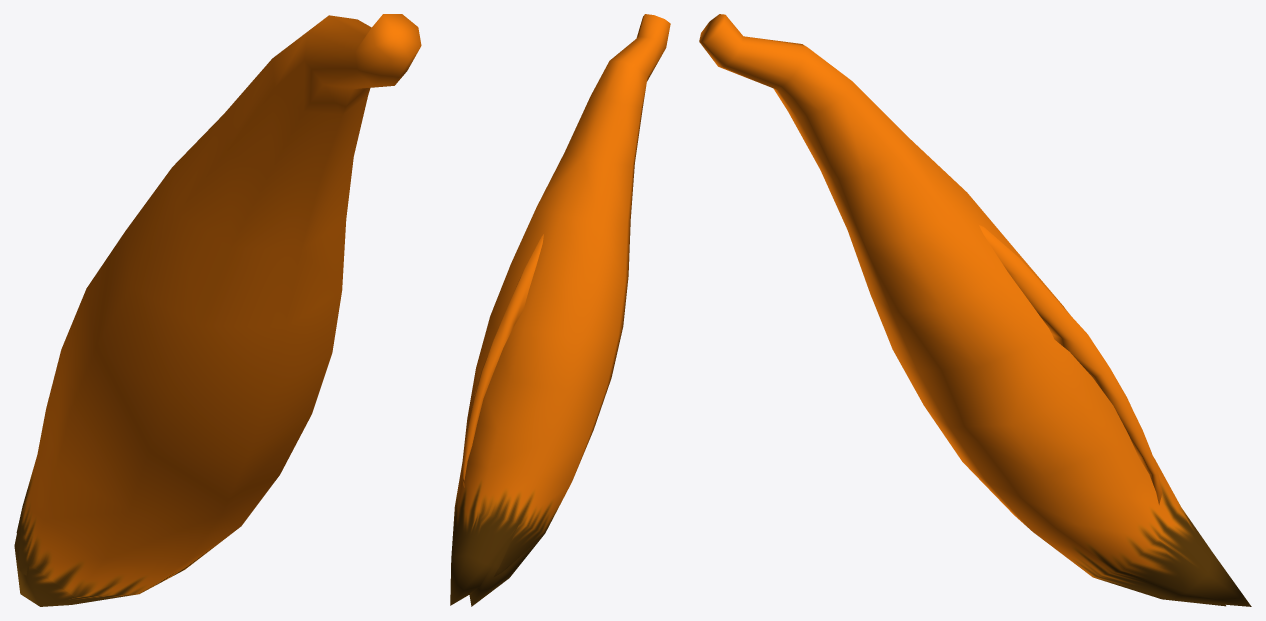
The model's file is Fox-Tail.fbx.
3 renders of one model, left to right at view 1: azimuth 30°, elevation 25°; view 2: azimuth 150°, elevation 25°; view 3: azimuth 270°, elevation 25°, orthographic. The views are drawn at different scales.
Visible parts, largest first — view 1: カスタム少女_mesh; view 2: カスタム少女_mesh; view 3: カスタム少女_mesh.
Boxes of the visible parts, x1,y1,x2,y2 form: カスタム少女_mesh: (14, 14, 421, 606); カスタム少女_mesh: (450, 14, 670, 606); カスタム少女_mesh: (699, 14, 1251, 606).
Size of the model in its own units: 12.94 by 44.56 by 37.44.
2 materials, 2 textured.
